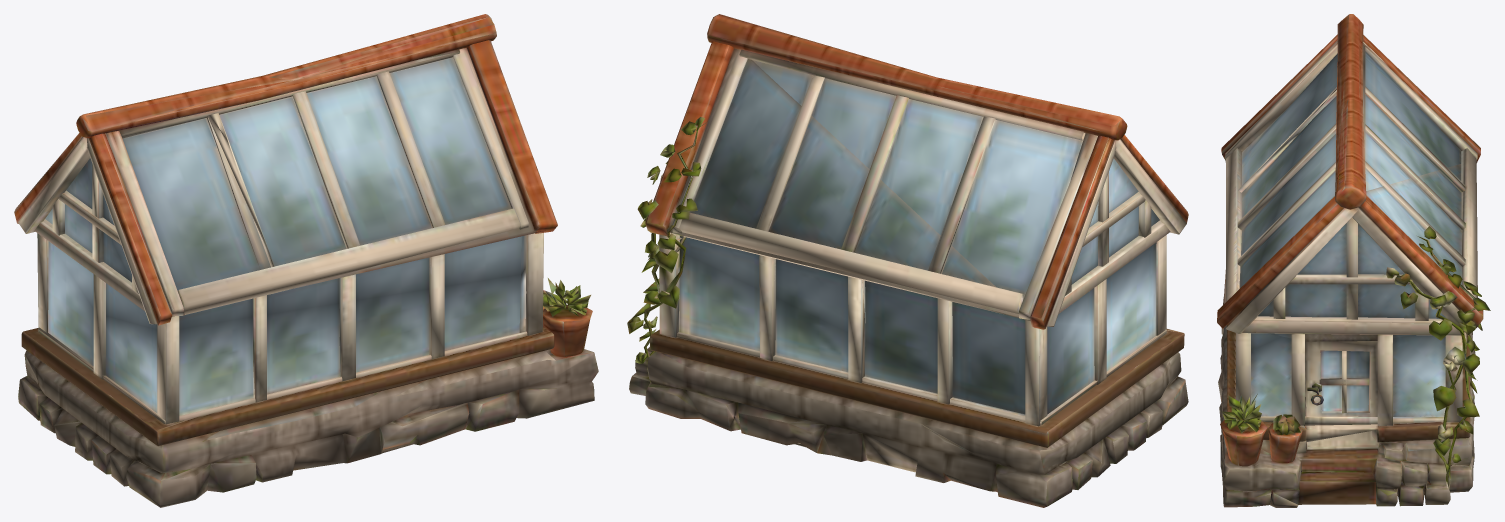
The model's file is greenhouse.glb.
3 renders of one model, left to right at view 1: azimuth 30°, elevation 25°; view 2: azimuth 150°, elevation 25°; view 3: azimuth 270°, elevation 25°, orthographic. The views are drawn at different scales.
Visible parts, largest first — view 1: greenhouse; view 2: greenhouse; view 3: greenhouse.
Part boxes in pixels (x1,y1,x2,y2): greenhouse: (14, 14, 598, 507); greenhouse: (627, 14, 1188, 507); greenhouse: (1217, 14, 1490, 507).
Size of the model in its own units: 2.05 by 1.5 by 1.21.
1 material, 1 textured.
